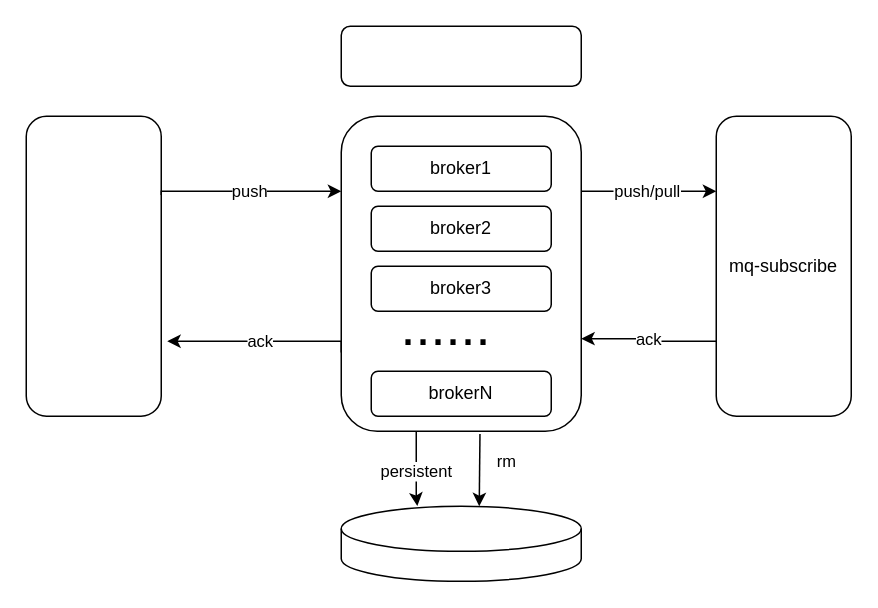
Some shapes in this 878 by 608 pixel diagram are drawn without their labels. The box of each missing label's shape, as (x1, y1, x2, y2) in pixels:
mq-publish: (25, 115, 161, 416)
zookeeper: (340, 25, 581, 86)
